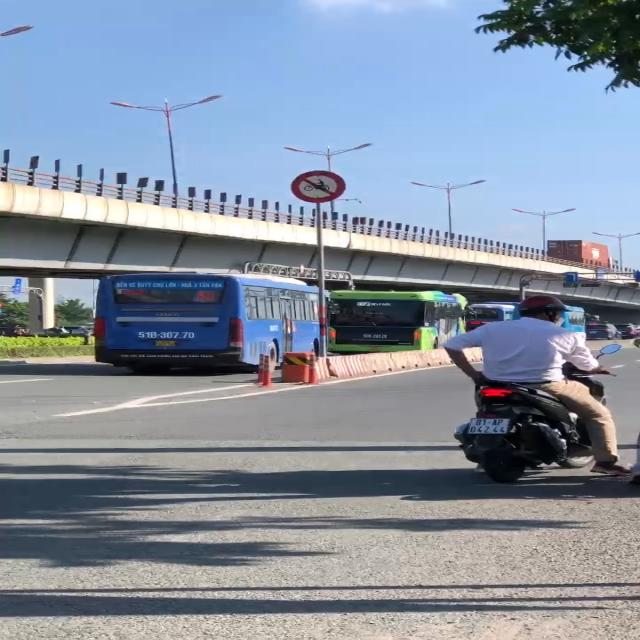Bien bao cam xe may: (290, 164, 355, 204)
